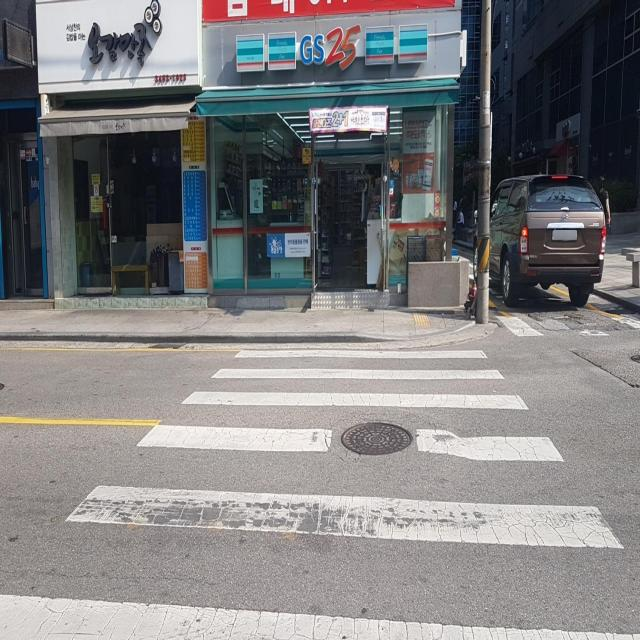횡단보도: (0, 345, 640, 639), (491, 304, 640, 341)
